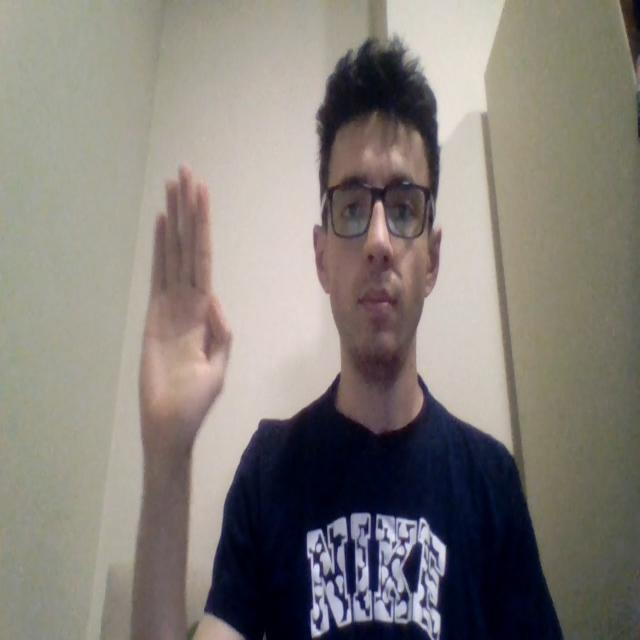hello: (137, 161, 233, 461)
